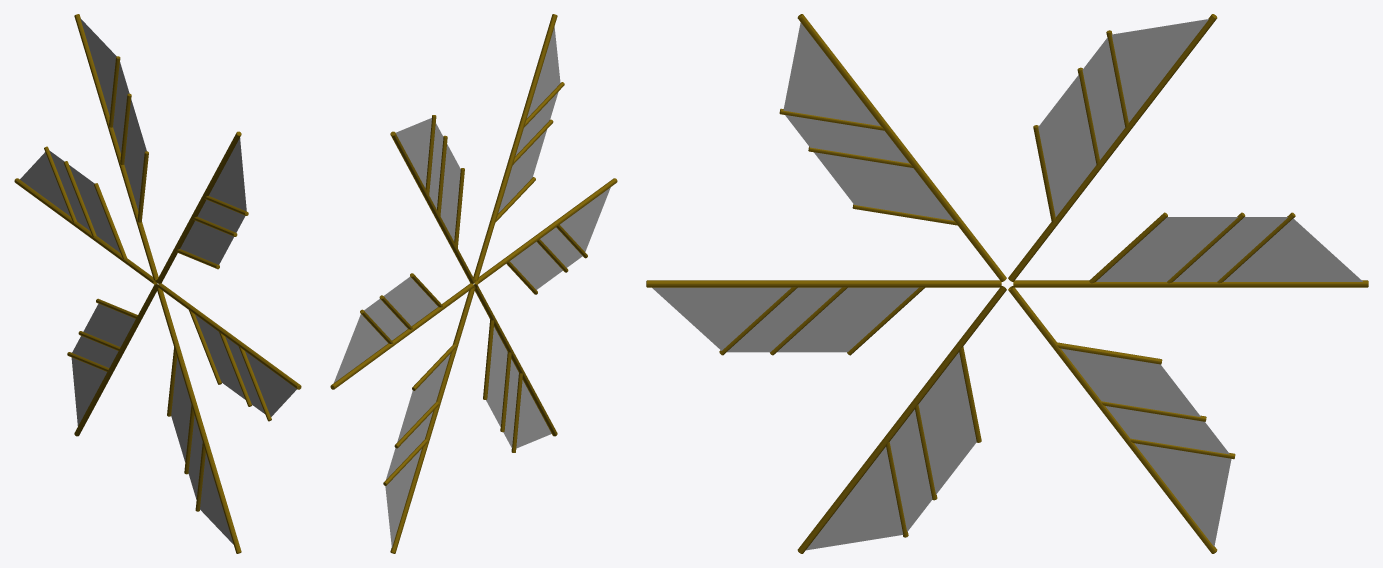
Rendered from wings.fbx.
3 renders of one model, left to right at view 1: azimuth 30°, elevation 25°; view 2: azimuth 150°, elevation 25°; view 3: azimuth 270°, elevation 25°, orthographic. The views are drawn at different scales.
Visible parts, largest first — view 1: Wings; view 2: Wings; view 3: Wings.
Boxes of the visible parts, x1=… form: Wings: x1=14, y1=14, x2=301, y2=553; Wings: x1=330, y1=14, x2=617, y2=553; Wings: x1=646, y1=14, x2=1368, y2=553.
Size of the model in its own units: 0.2003 by 16.88 by 20.5.
